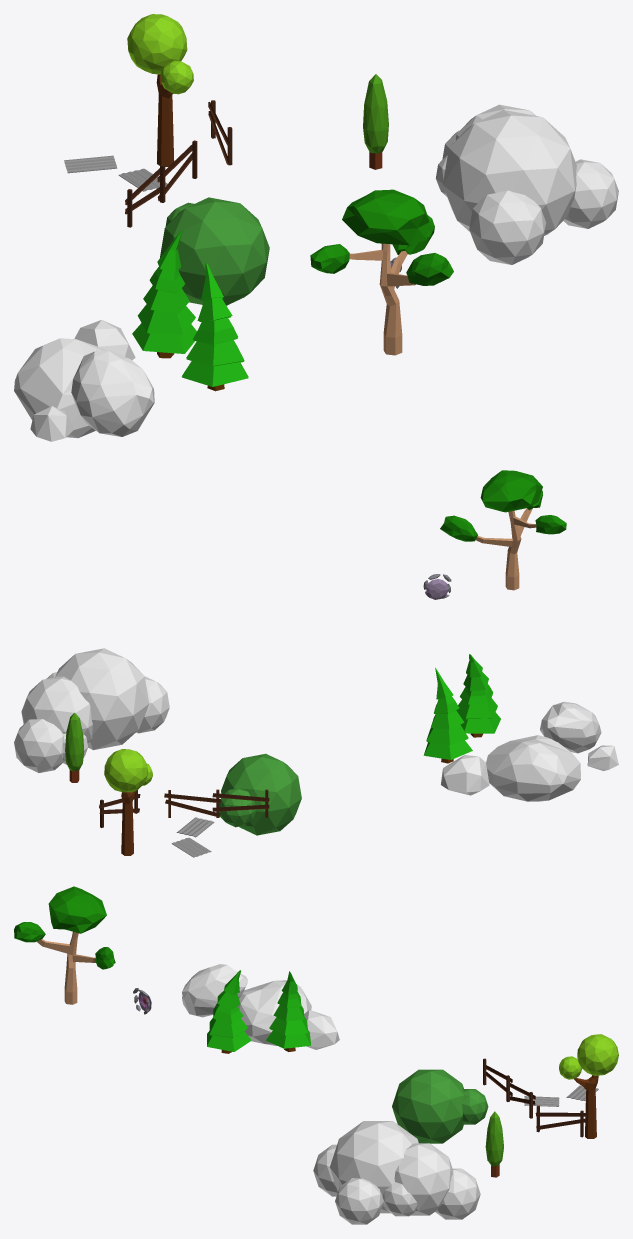
The model's file is trees3.glb.
The picture shows the model from 3 angles, top to bottom: view 1: azimuth 30°, elevation 25°; view 2: azimuth 150°, elevation 25°; view 3: azimuth 270°, elevation 25°; orthographic projection. The views are drawn at different scales.
Parts seen in each view (by area): view 1: Icosphere.016, Icosphere.025, Sphere.001, Sphere, Cylinder.001, Icosphere.013, Cylinder, Icokugel.003, Icosphere_Icosphere.002, Icosphere.015, Zylinder, Icosphere.027 (+7 smaller); view 2: Icosphere.016, Sphere, Icosphere.025, Icosphere.017, Cylinder.001, Sphere.001, Cylinder, Icosphere.012, Icokugel.003, Icosphere_Icosphere.002, Icosphere, Zylinder (+6 smaller); view 3: Icosphere.025, Icosphere.016, Icosphere.017, Sphere, Cylinder, Icokugel.003, Cylinder.001, Sphere.001, Icosphere.015, Icosphere.012, Icosphere_Icosphere.002, Zylinder (+7 smaller).
Boxes of the visible parts, left/top/right/bottom form: Icosphere.016: left=443, top=110, right=576, bottom=235; Icosphere.025: left=160, top=197, right=269, bottom=305; Sphere.001: left=71, top=350, right=154, bottom=436; Sphere: left=14, top=338, right=123, bottom=438; Cylinder.001: left=132, top=229, right=196, bottom=358; Icosphere.013: left=469, top=190, right=546, bottom=264; Cylinder: left=181, top=263, right=248, bottom=391; Icokugel.003: left=342, top=189, right=429, bottom=245; Icosphere_Icosphere.002: left=127, top=14, right=187, bottom=74; Icosphere.015: left=563, top=159, right=618, bottom=228; Zylinder: left=349, top=243, right=415, bottom=355; Icosphere.027: left=363, top=74, right=388, bottom=169; Icosphere.016: left=55, top=648, right=149, bottom=750; Sphere: left=486, top=735, right=580, bottom=801; Icosphere.025: left=221, top=753, right=301, bottom=835; Icosphere.017: left=21, top=676, right=92, bottom=743; Cylinder.001: left=423, top=667, right=472, bottom=763; Sphere.001: left=540, top=701, right=601, bottom=753; Cylinder: left=456, top=654, right=500, bottom=737; Icosphere.012: left=14, top=719, right=63, bottom=772; Icokugel.003: left=480, top=470, right=542, bottom=512; Icosphere_Icosphere.002: left=104, top=749, right=148, bottom=792; Icosphere: left=441, top=755, right=489, bottom=795; Zylinder: left=476, top=508, right=536, bottom=590; Icosphere.025: left=392, top=1069, right=464, bottom=1143; Icosphere.016: left=330, top=1121, right=418, bottom=1213; Icosphere.017: left=394, top=1143, right=452, bottom=1215; Sphere: left=237, top=980, right=311, bottom=1045; Cylinder: left=207, top=970, right=251, bottom=1053; Icokugel.003: left=48, top=886, right=106, bottom=933; Cylinder.001: left=266, top=971, right=310, bottom=1051; Sphere.001: left=182, top=964, right=248, bottom=1017; Icosphere.015: left=335, top=1178, right=383, bottom=1224; Icosphere.012: left=435, top=1168, right=480, bottom=1219; Icosphere_Icosphere.002: left=577, top=1034, right=618, bottom=1075; Zylinder: left=37, top=932, right=95, bottom=1004.
Size of what is drawn, in the model's own units: 23.64 by 10.54 by 26.3.
